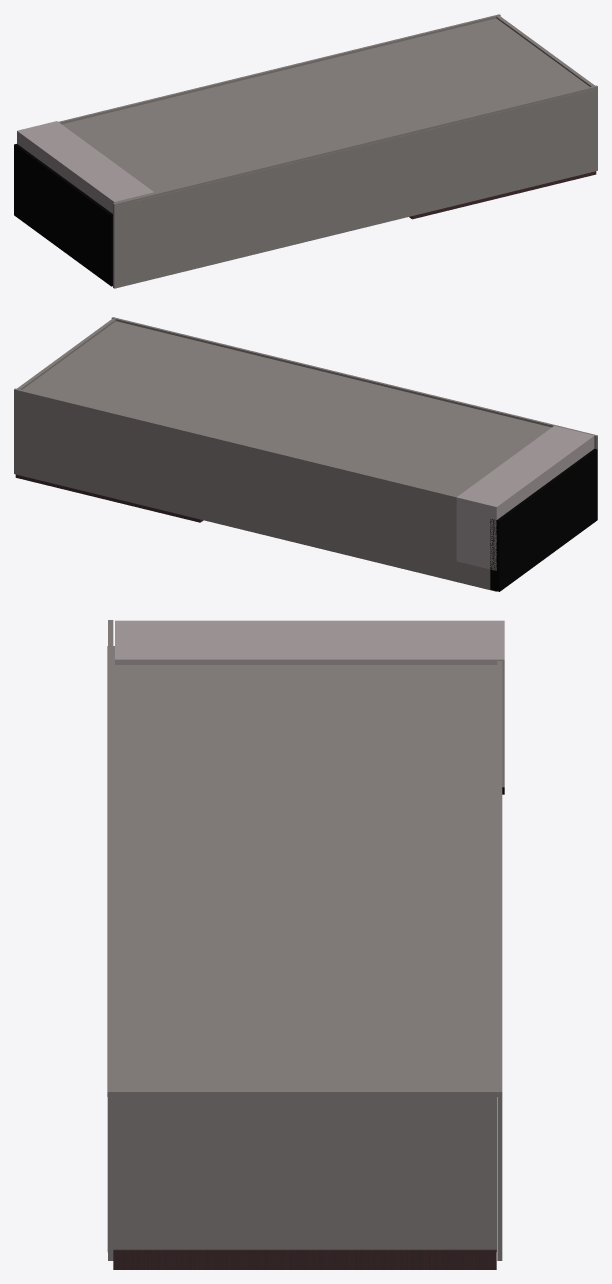
Rendered from Bolera.fbx.
The picture shows the model from 3 angles, top to bottom: view 1: azimuth 30°, elevation 25°; view 2: azimuth 150°, elevation 25°; view 3: azimuth 270°, elevation 25°; orthographic projection. The views are drawn at different scales.
Visible parts, largest first — view 1: techo, pared 2, Cube.001, Cube, pared 3, pared 1, moqueta; view 2: techo, pared 3, Cube.001, Cube, pared 2, moqueta, pared 1; view 3: techo, pared 1, Cube, moqueta, pared 2, pared 3.
Part boxes in pixels (x1,y1,x2,y2): techo: [62, 18, 595, 202]; pared 2: [113, 85, 597, 288]; Cube.001: [14, 144, 112, 286]; Cube: [17, 121, 154, 213]; pared 3: [58, 14, 500, 124]; pared 1: [496, 16, 596, 167]; moqueta: [409, 171, 596, 219]; techo: [22, 321, 551, 496]; pared 3: [14, 388, 496, 591]; Cube.001: [490, 448, 597, 591]; Cube: [456, 426, 594, 570]; pared 2: [111, 317, 597, 519]; moqueta: [15, 474, 203, 522]; pared 1: [17, 318, 115, 389]; techo: [107, 646, 497, 1096]; pared 1: [107, 1088, 496, 1251]; Cube: [115, 620, 504, 787]; moqueta: [113, 1249, 496, 1269]; pared 2: [108, 620, 113, 1260]; pared 3: [497, 661, 502, 1260].
Bounding box in the file's own units: 36.91 × 6.52 × 13.11.
